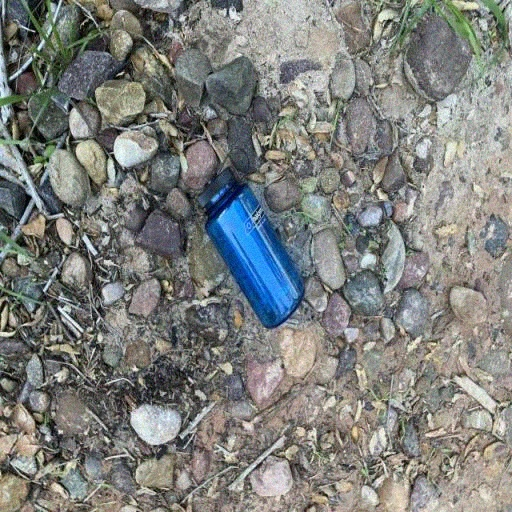bottle: (198, 148, 305, 329)
